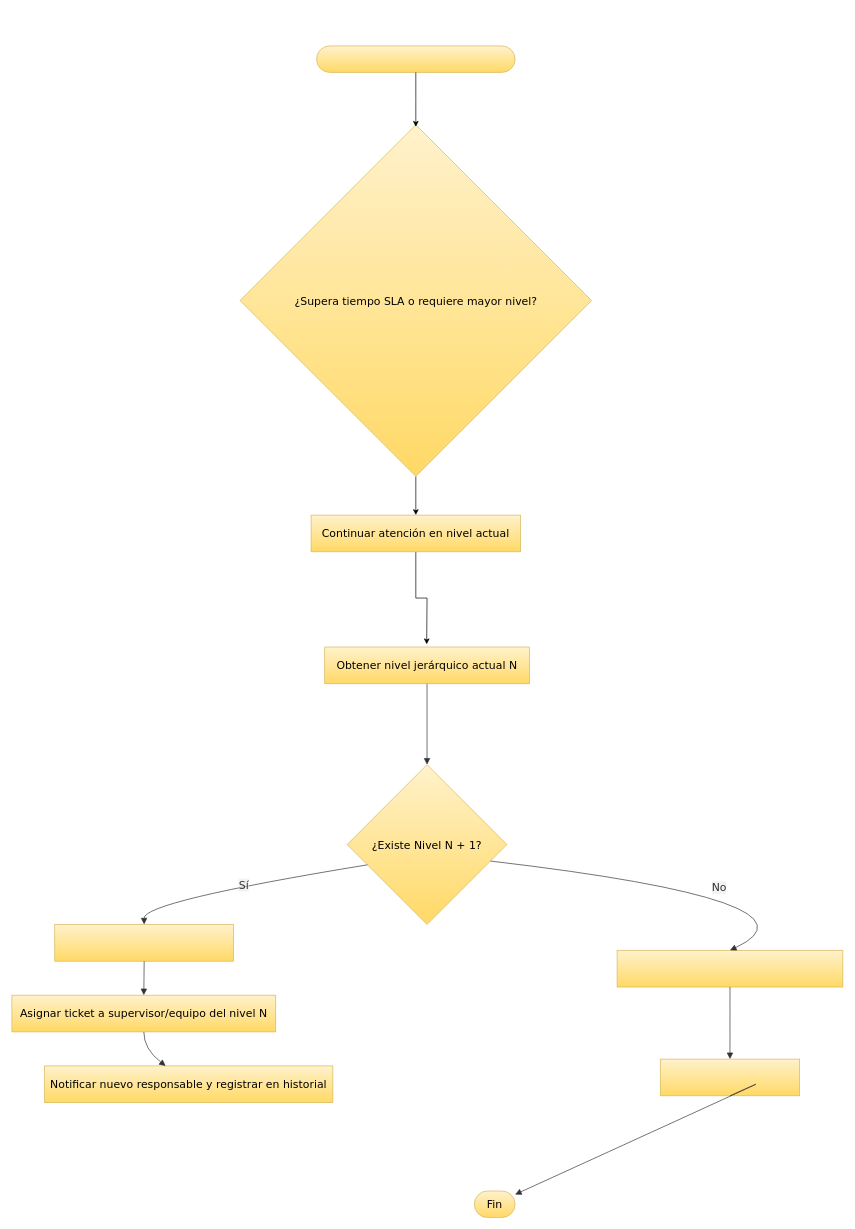
This 855x1229 diagram has some shape labels left out. Each missing label, with the box of its shape:
Incrementar nivel: N = N + 1: (54, 924, 234, 961)
Inicio: Evaluar necesidad de escalado: (316, 45, 515, 72)
Marcar como 'Caso Crítico / Dirección': (616, 950, 843, 987)
Notificar a Gerencia: (660, 1058, 800, 1096)
